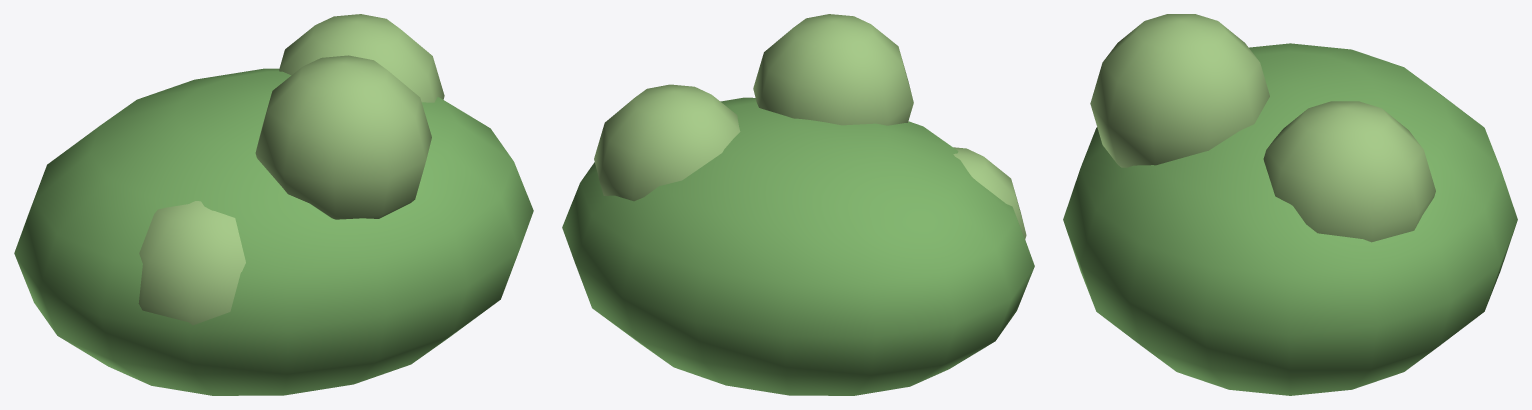
Rendered from slime_gel.fbx.
3 renders of one model, left to right at view 1: azimuth 30°, elevation 25°; view 2: azimuth 150°, elevation 25°; view 3: azimuth 270°, elevation 25°, orthographic. The views are drawn at different scales.
Parts seen in each view (by area): view 1: slime_gel; view 2: slime_gel; view 3: slime_gel.
Part boxes in pixels (x1,y1,x2,y2): slime_gel: (14, 14, 533, 395); slime_gel: (562, 14, 1034, 395); slime_gel: (1063, 14, 1517, 395).
Size of the model in its own units: 0.6 by 0.4125 by 0.5.
